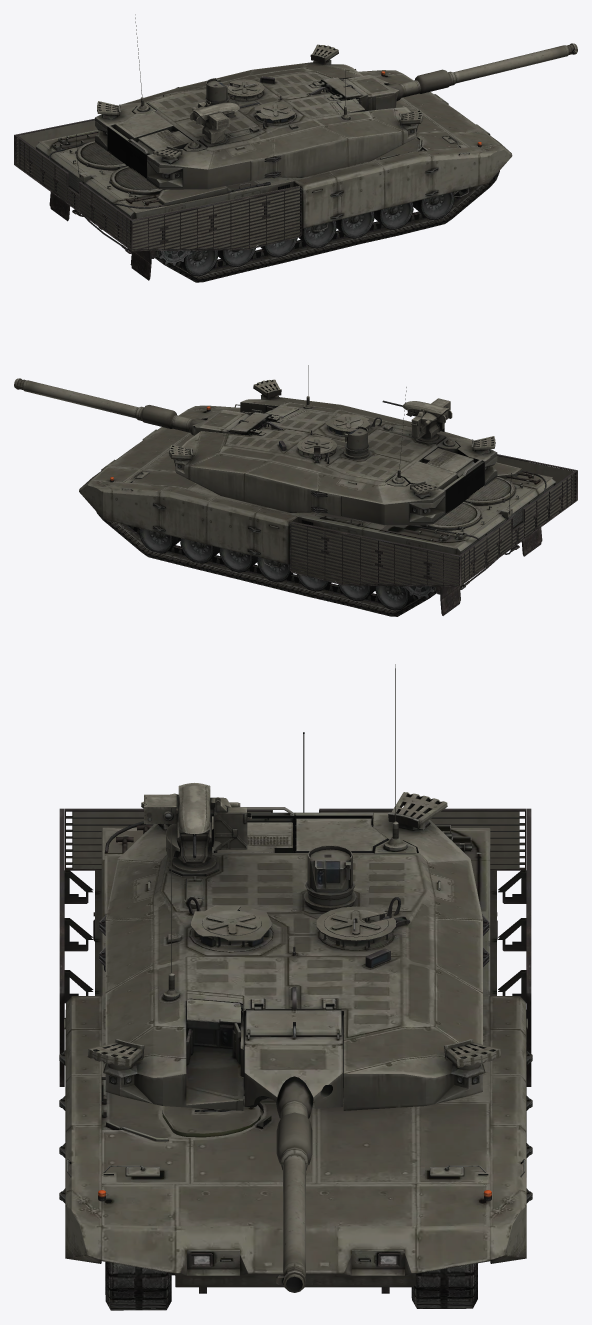
Rendered from de-leo-rev.glb.
The picture shows the model from 3 angles, top to bottom: view 1: azimuth 30°, elevation 25°; view 2: azimuth 150°, elevation 25°; view 3: azimuth 270°, elevation 25°; orthographic projection. The views are drawn at different scales.
Parts seen in each view (by area): view 1: root; view 2: root; view 3: root.
Boxes of the visible parts, <box> form: root: <box>14,14,577,282</box>; root: <box>14,365,577,616</box>; root: <box>59,664,532,1310</box>.
Bounding box in the file's own units: 10.9 × 4.48 × 4.45.
5 materials, 5 textured.
